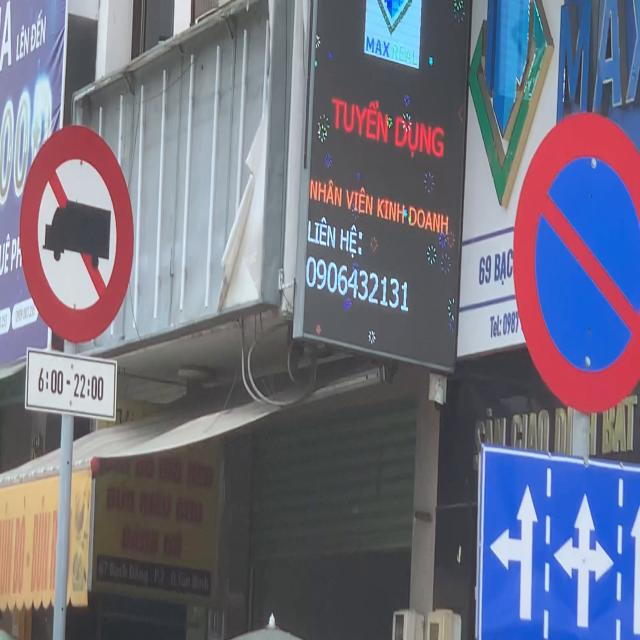Cam con lai: (18, 122, 132, 352)
Cam do: (511, 105, 640, 412)
